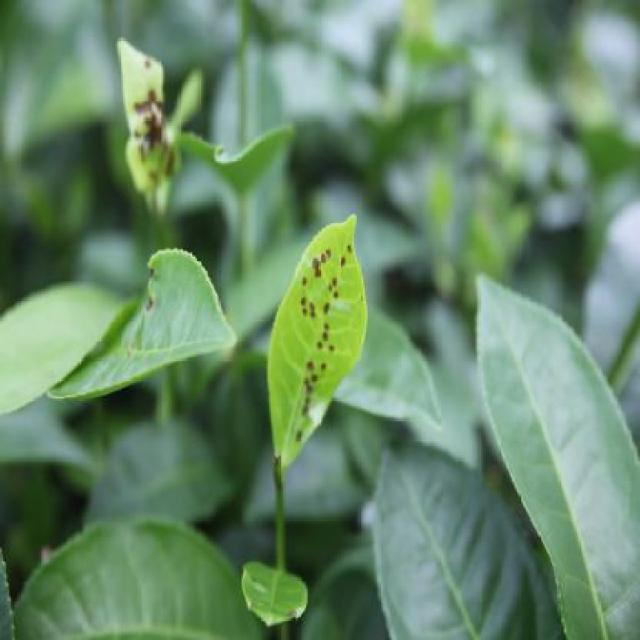Tea Mosquito bug infested leaf: (252, 183, 377, 494)
